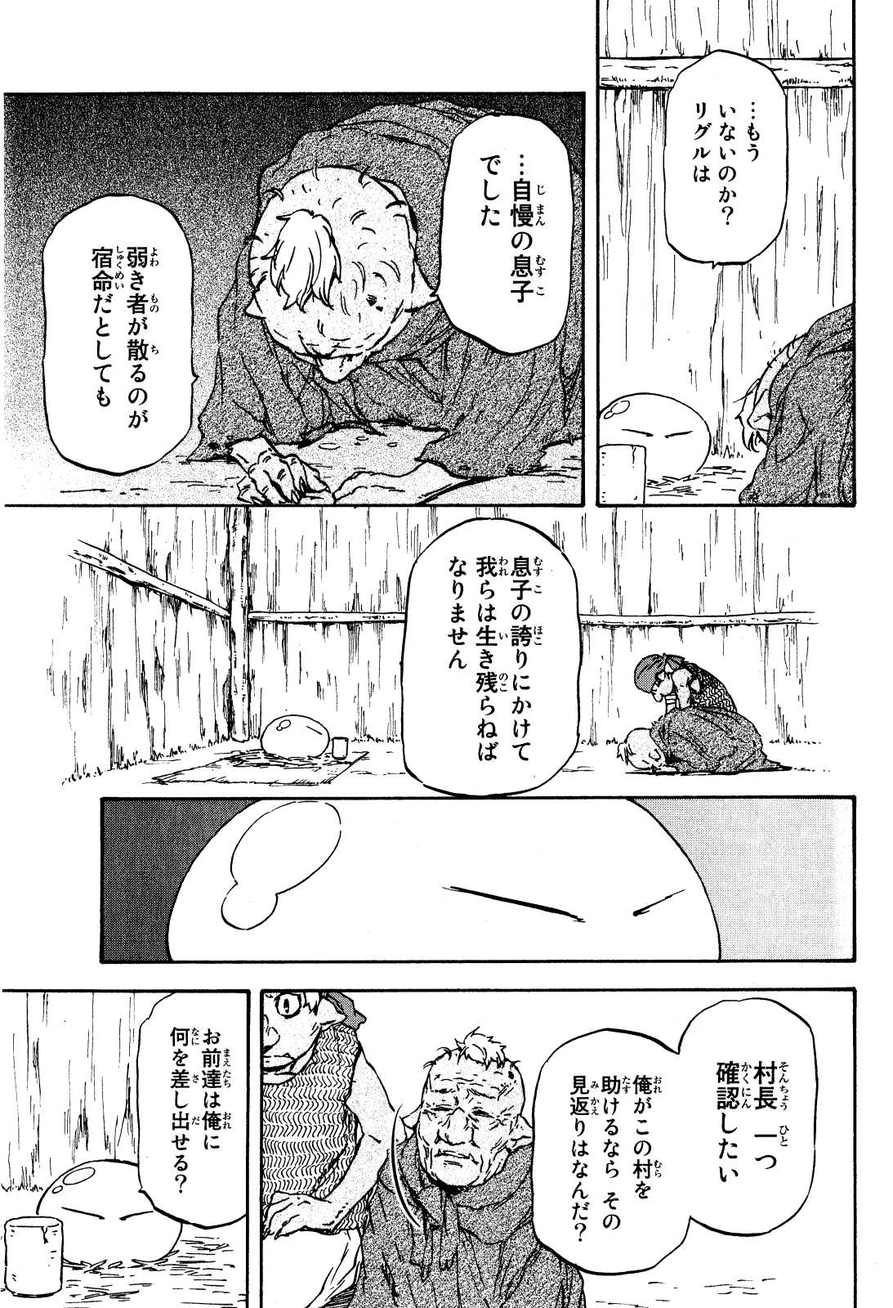bubbles: (525, 988, 834, 1279), (395, 511, 590, 800), (37, 188, 206, 482), (431, 110, 576, 361), (658, 48, 793, 271), (132, 990, 249, 1234)
